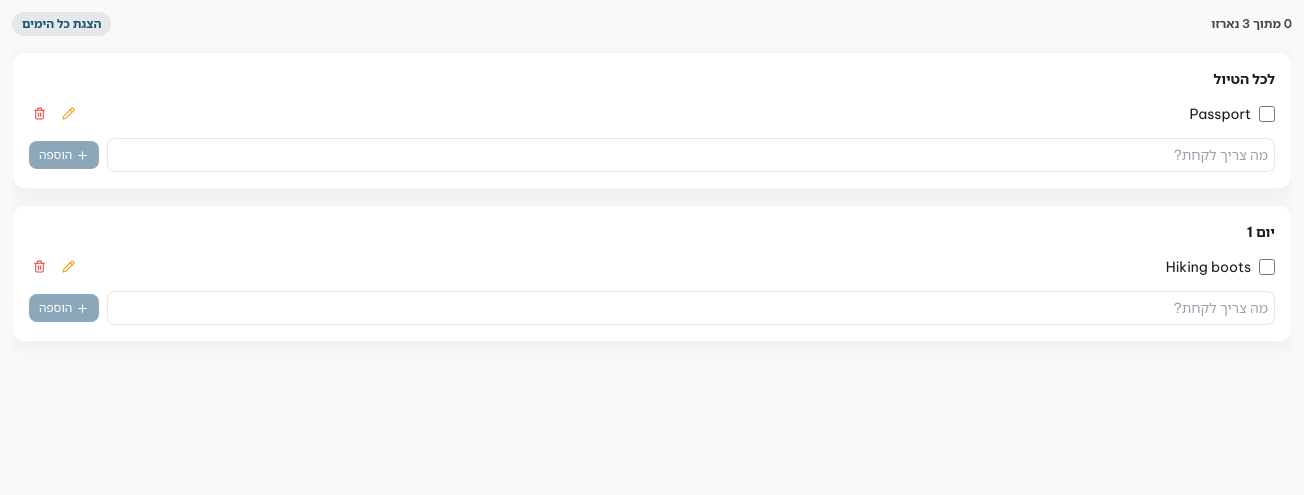
Test: ChecklistPanel › shows every day once toggled
The image size is (1304, 495).
Click the button "הצגת כל הימים": (62, 24) [12,12,111,36]
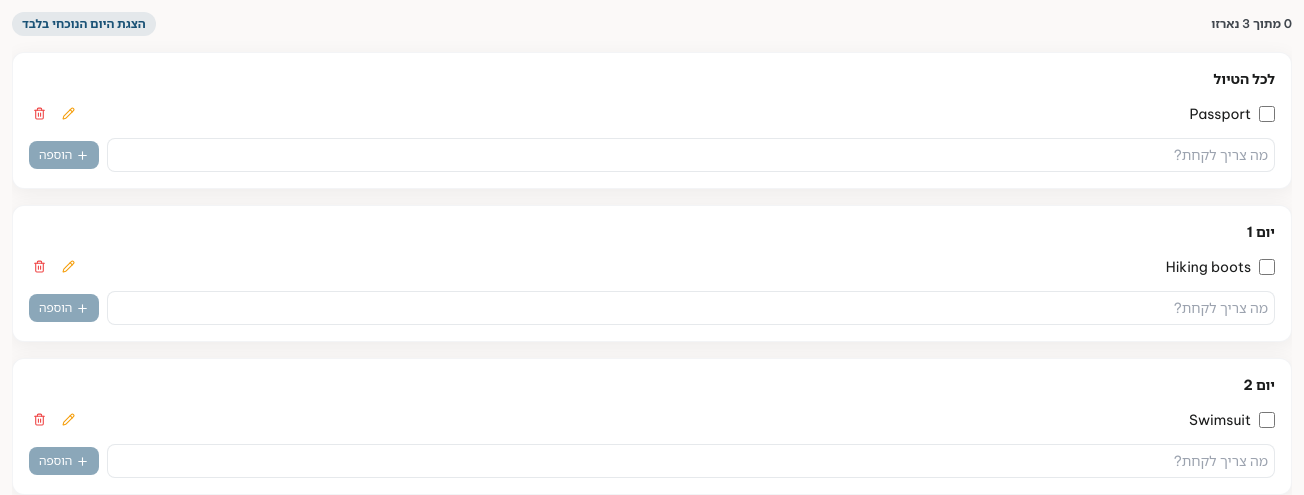
Now the text "Swimsuit" is shown, box [1189,410,1251,430]
